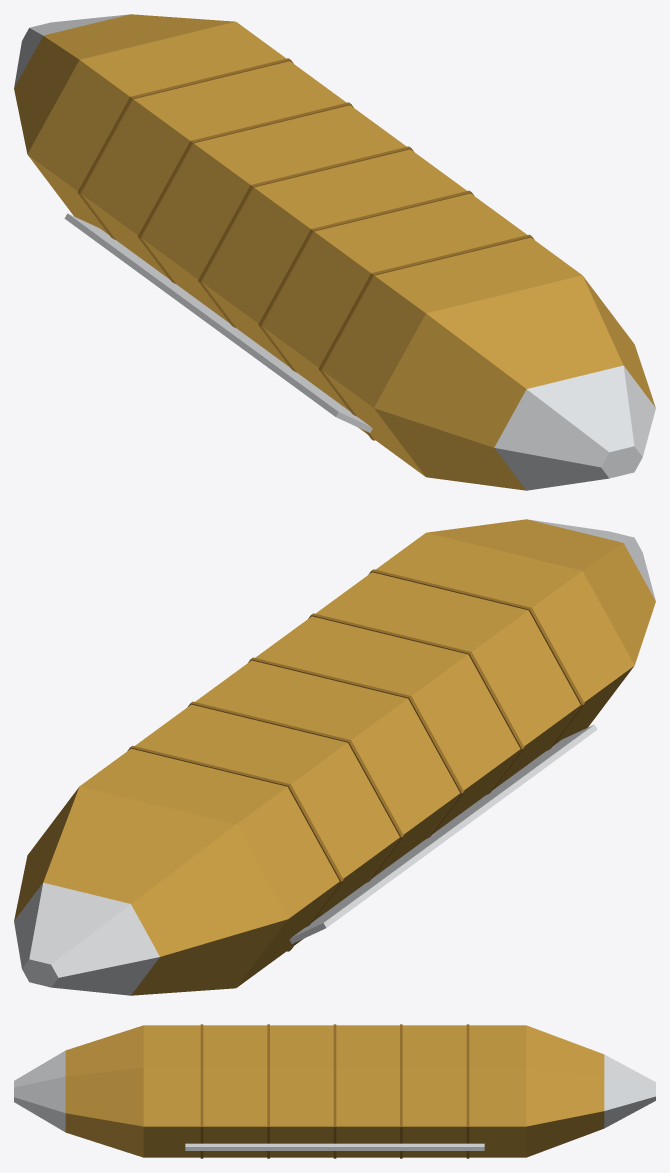
The model's file is e1_amp.obj.
3 views of the same model, one above another, from view 1: azimuth 30°, elevation 25°; view 2: azimuth 150°, elevation 25°; view 3: azimuth 270°, elevation 25° (orthographic). The views are drawn at different scales.
Visible parts, largest first — view 1: e1_amp; view 2: e1_amp; view 3: e1_amp.
Boxes of the visible parts, <box> form: e1_amp: <box>14,14,655,490</box>; e1_amp: <box>14,519,655,995</box>; e1_amp: <box>14,1024,655,1158</box>.
Size of the model in its own units: 1.01 by 0.6072 by 3.86.
